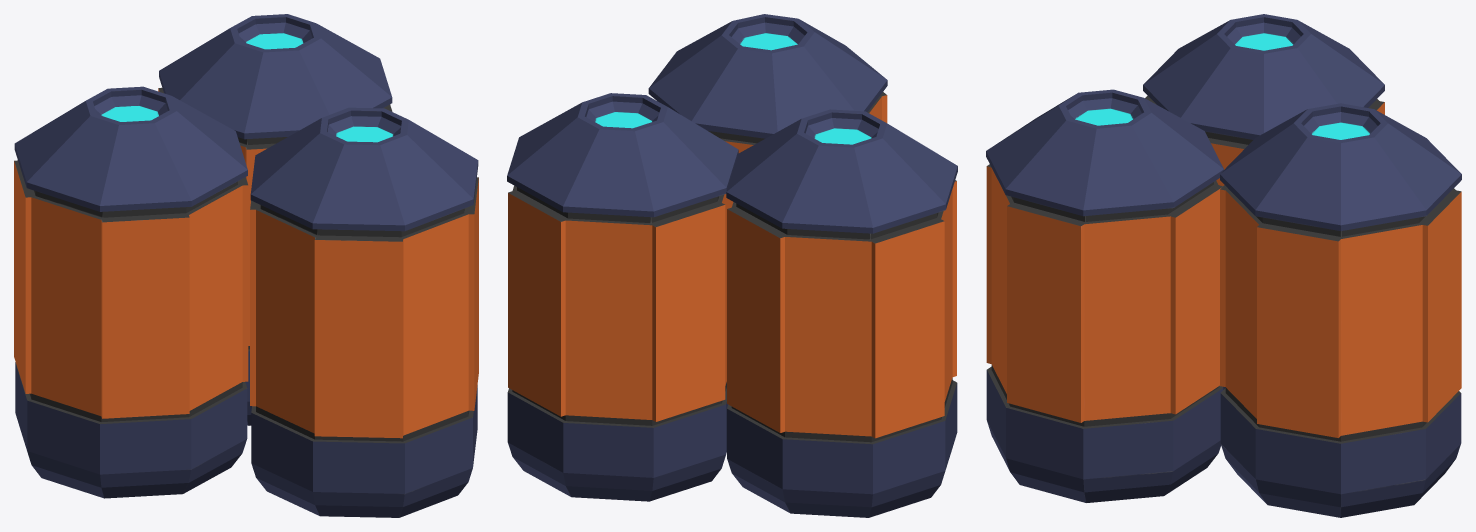
Rendered from BarrelTriple.fbx.
The picture shows the model from 3 angles, left to right: view 1: azimuth 30°, elevation 25°; view 2: azimuth 150°, elevation 25°; view 3: azimuth 270°, elevation 25°; orthographic projection.
Parts seen in each view (by area): view 1: Barrel; view 2: Barrel; view 3: Barrel.
Part boxes in pixels (<box>): Barrel: <box>14,14,478,517</box>; Barrel: <box>507,14,957,517</box>; Barrel: <box>986,14,1461,517</box>.
Bounding box in the file's own units: 93.67 × 80 × 98.32.
